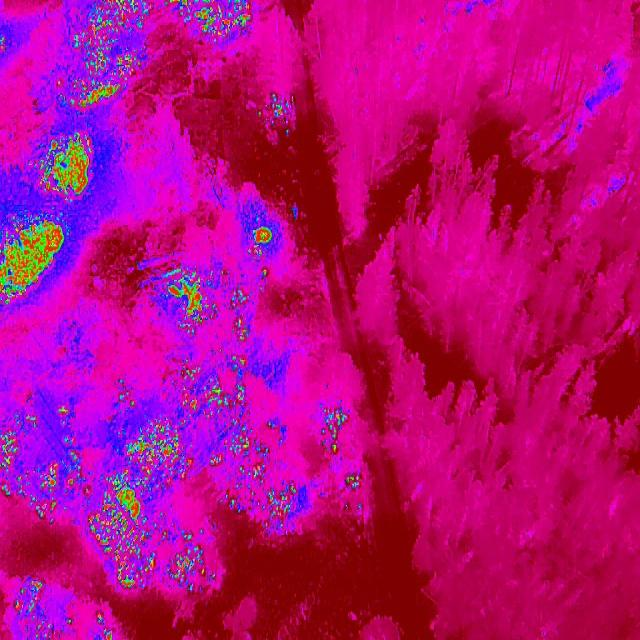fire: (88, 484, 212, 596), (0, 404, 86, 527), (0, 219, 66, 309), (114, 419, 194, 486), (170, 354, 248, 421), (68, 48, 138, 114), (31, 132, 98, 200), (212, 417, 274, 485), (77, 0, 154, 54), (166, 0, 251, 42), (230, 480, 300, 530), (168, 270, 218, 338), (12, 577, 55, 640), (256, 87, 300, 141), (318, 400, 350, 456), (228, 288, 259, 341), (248, 220, 276, 260), (114, 378, 140, 412), (339, 469, 370, 495), (91, 611, 115, 640), (259, 268, 272, 282), (0, 33, 9, 53)
